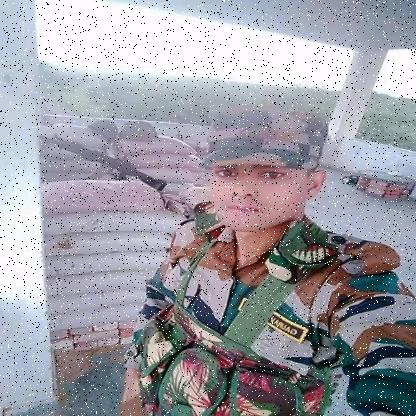rifle: (38, 131, 169, 194)
